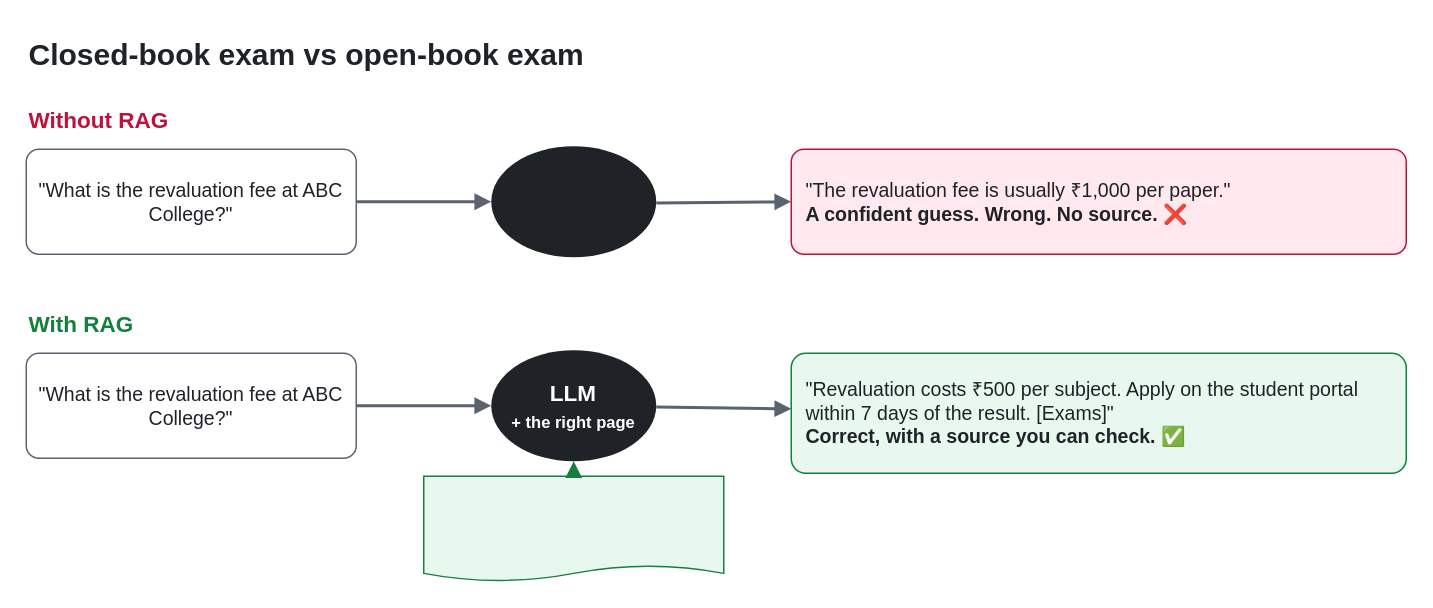
Image size: 1433x608. Some labels were removed from this diagram. The centre of each missing label's shape, as x and y in pixels:
LLM memory only: (573,201)
Retrieved page [Exams] "...pay a fee of ₹500 per subject...": (573,528)
